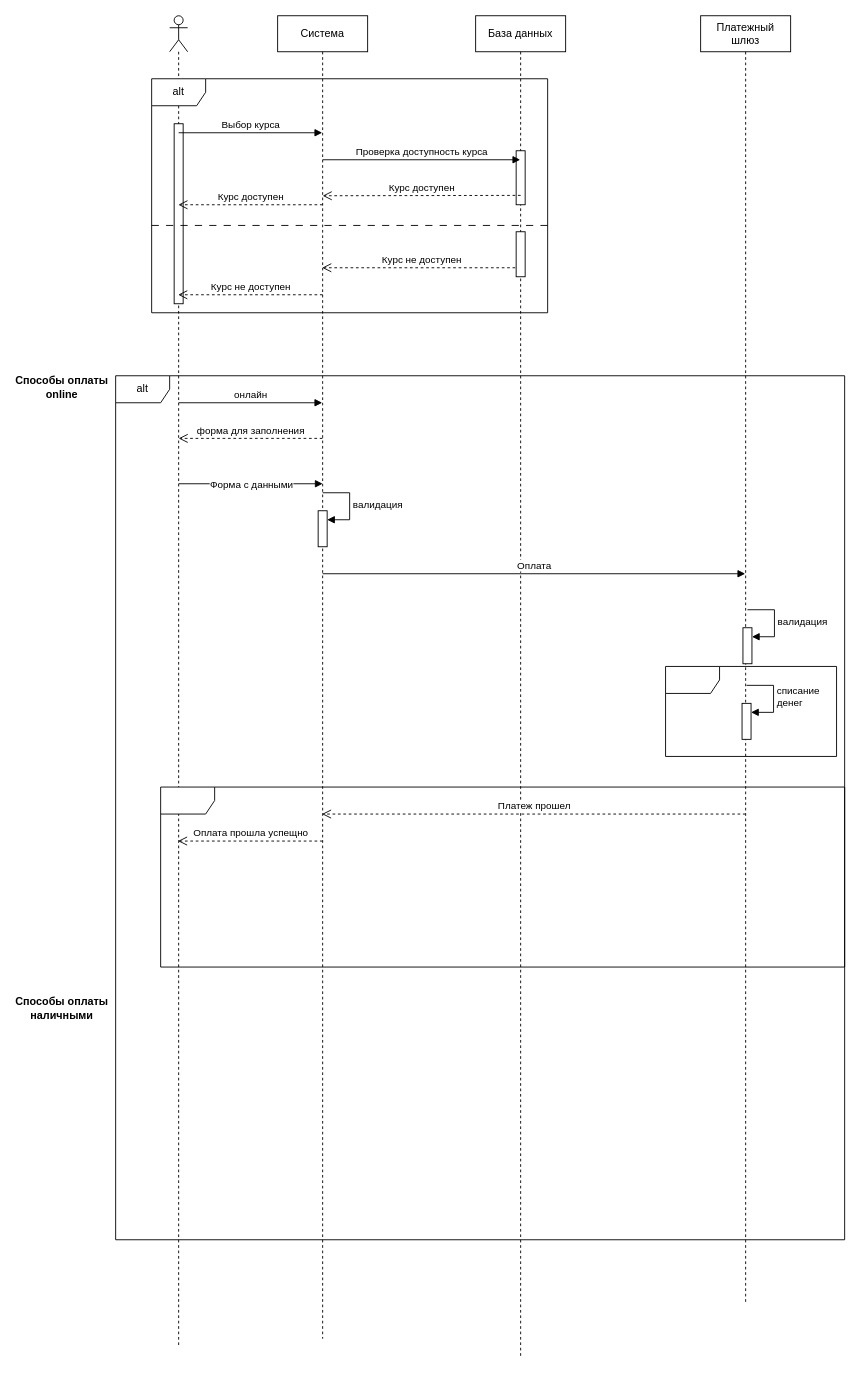
This 860x1373 diagram has some shape labels left out. Here are the shapes that lost their labels. From the top down, the centre of each, then its label:
At pixel 751 711: "loop=5".
At pixel 502 876: "frame".
